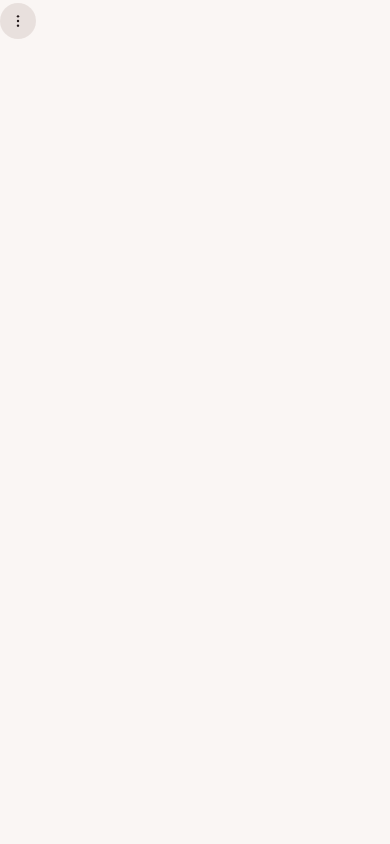
Test: <TrackMenu /> › trigger is a typed button that announces its popup and state; nothing is mounted while closed
What coordinates should you click on to do the following:
click the button named "More options"
I would click on:
 (18, 21)
Its box is [0,3,36,39].
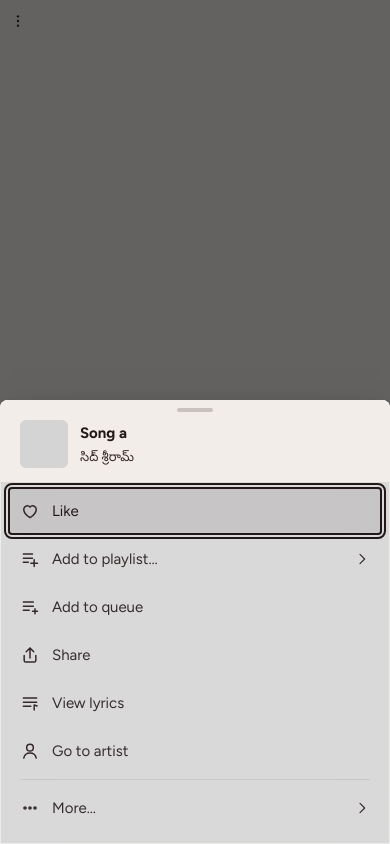
Result: the button named "More options" is expanded at [0,3,36,39]
Result: the menu is shown at [0,400,389,843]
